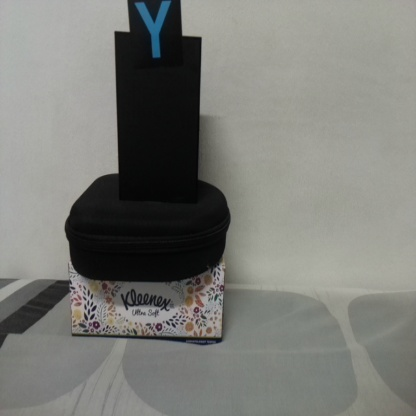id_14: (128, 1, 182, 64)
